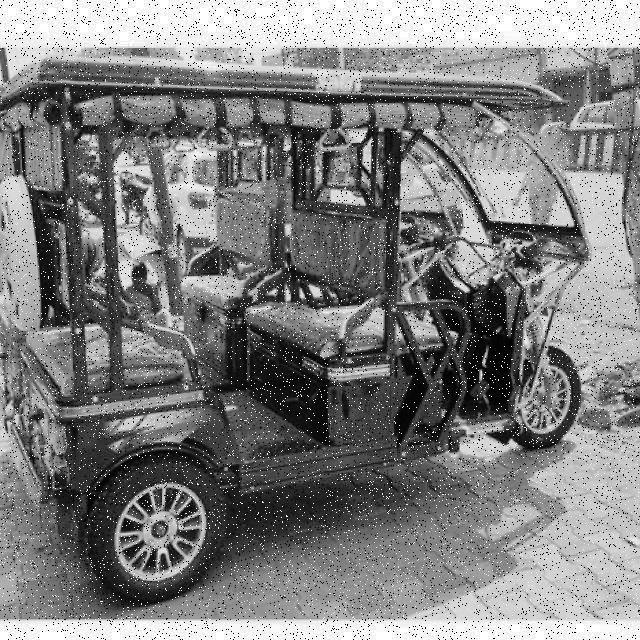Toto: (0, 55, 606, 607)
